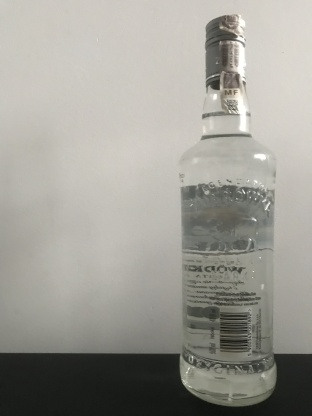nakretka: (202, 11, 248, 86)
